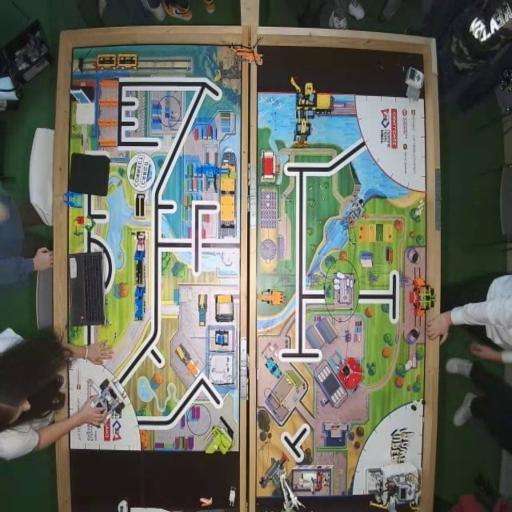lego_robot: (365, 463, 420, 512), (93, 376, 127, 424)
